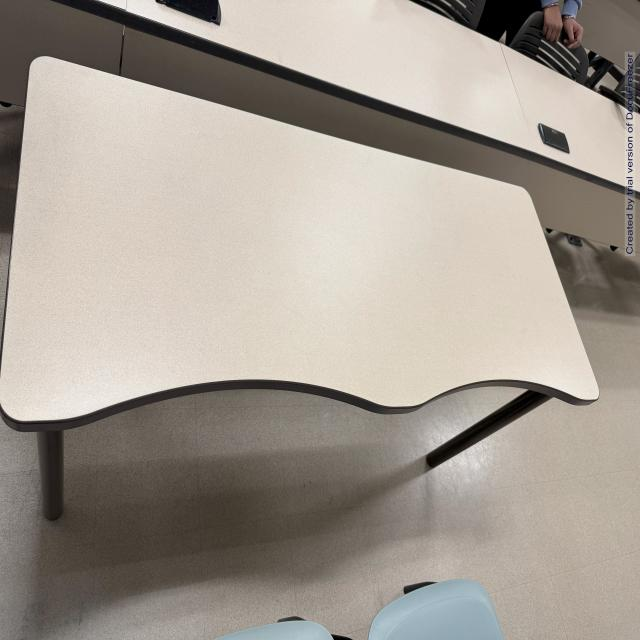Table: (21, 34, 608, 542)
